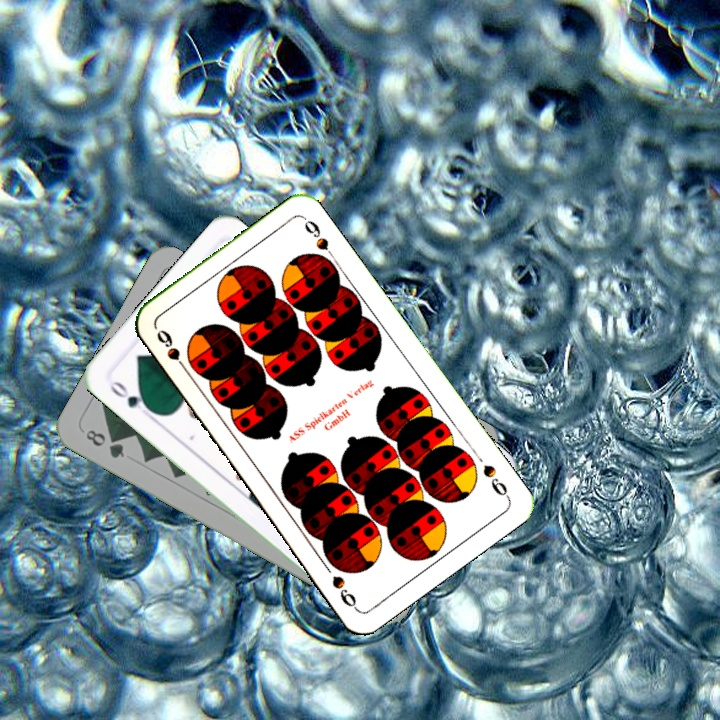G8: (81, 425, 127, 461)
GO: (105, 376, 156, 416)
S9: (152, 325, 191, 376), (478, 460, 513, 501)
